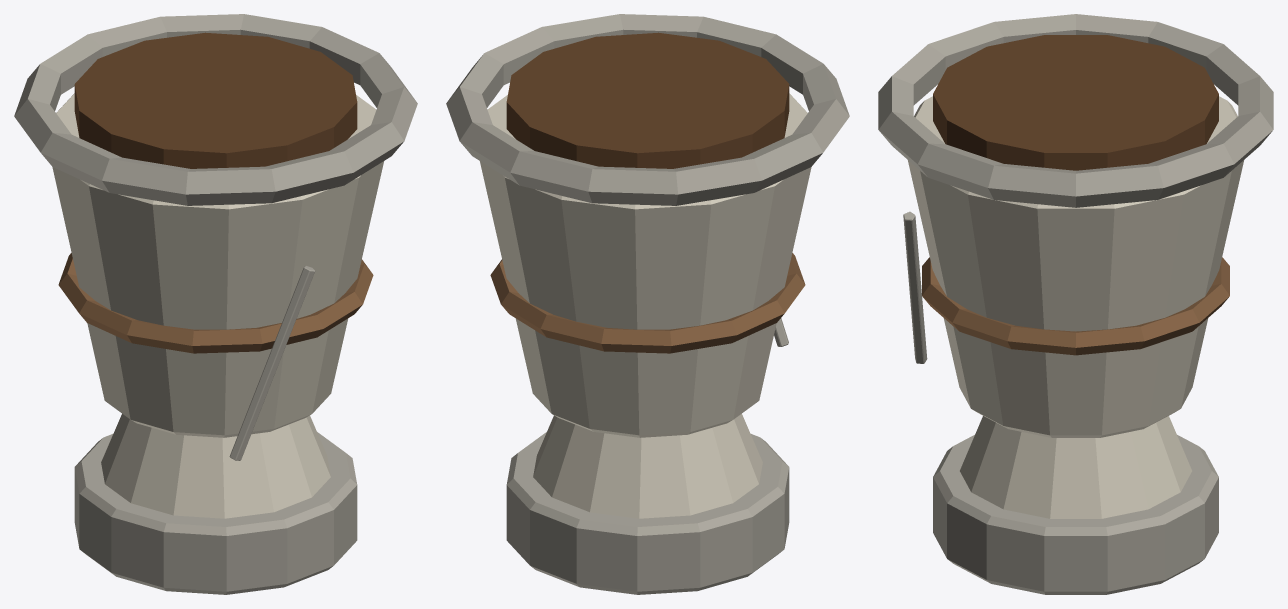
Rendered from runtime.glb.
3 renders of one model, left to right at view 1: azimuth 30°, elevation 25°; view 2: azimuth 150°, elevation 25°; view 3: azimuth 270°, elevation 25°, orthographic.
Parts seen in each view (by area): view 1: eiffel-historic-urn-v08_nocol; view 2: eiffel-historic-urn-v08_nocol; view 3: eiffel-historic-urn-v08_nocol.
Part boxes in pixels (x1,y1,x2,y2): eiffel-historic-urn-v08_nocol: [14, 14, 417, 594]; eiffel-historic-urn-v08_nocol: [446, 14, 849, 594]; eiffel-historic-urn-v08_nocol: [878, 14, 1273, 594].
Size of the model in its own units: 1.08 by 1.31 by 1.05.
